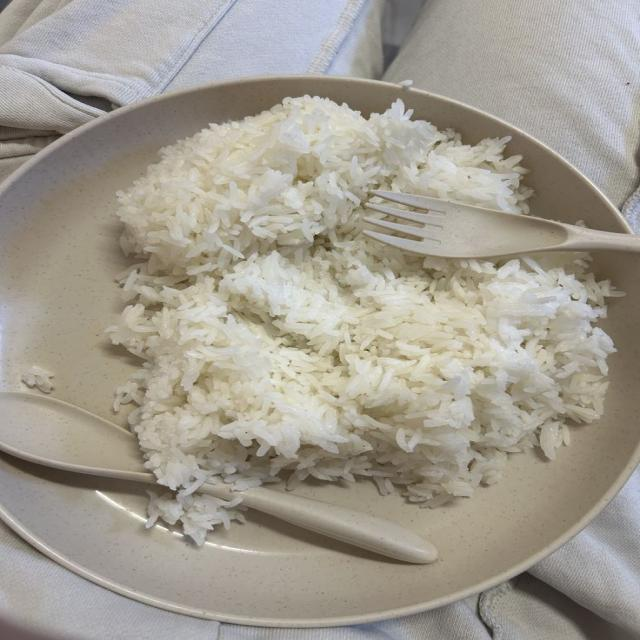rice: (108, 96, 614, 542), (21, 366, 53, 393)
